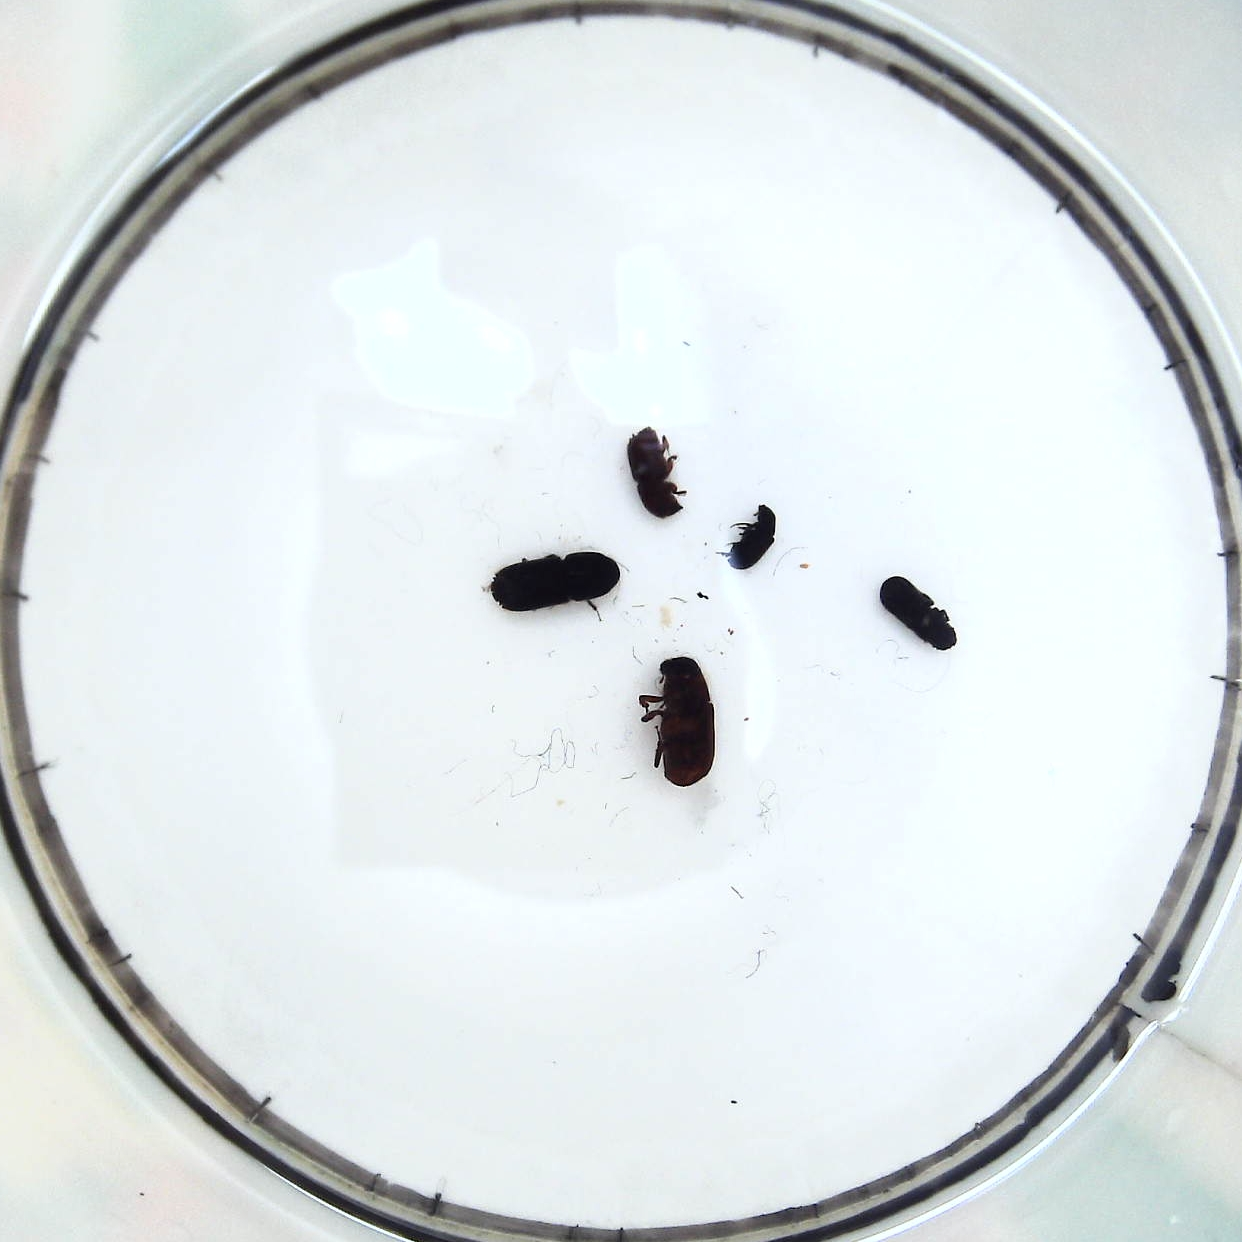Boerner: (485, 549, 616, 618)
Leconte: (645, 657, 720, 790)
Linnaeus: (624, 427, 692, 520)
armandi: (875, 570, 958, 652)
coleoptera: (723, 499, 784, 573)
